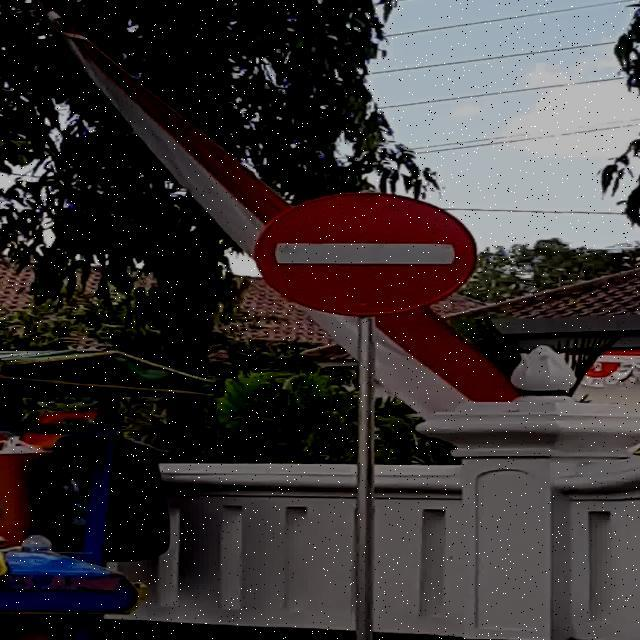Dilarang Masuk: (254, 192, 477, 316)
